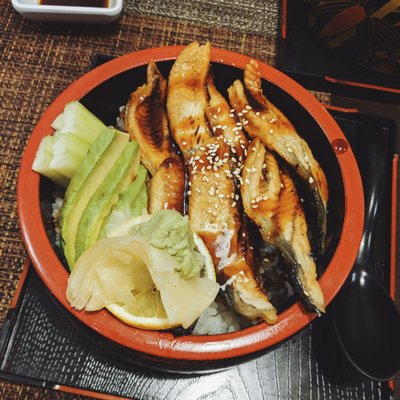sushi: (16, 28, 360, 370)
